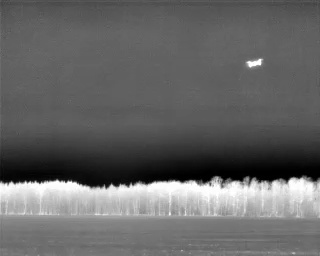DRONE: (242, 53, 268, 74)
